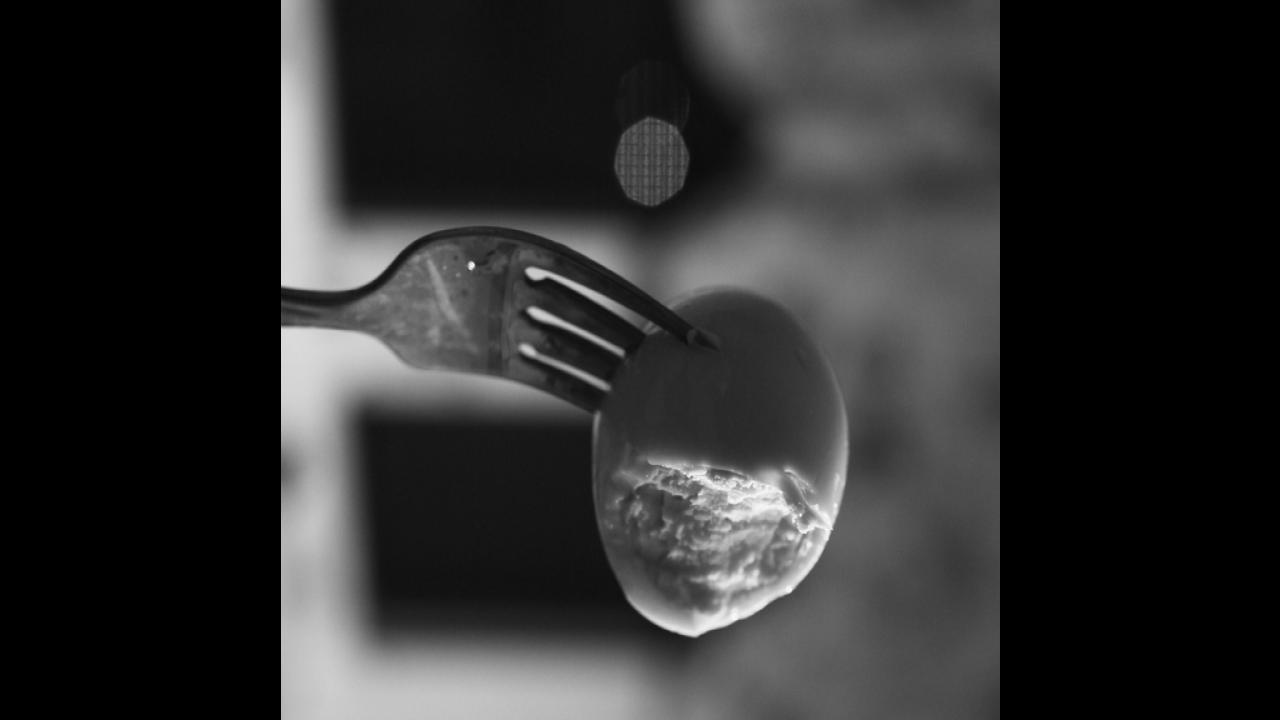fork: (280, 218, 724, 428)
